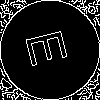E: (25, 25, 77, 69)
